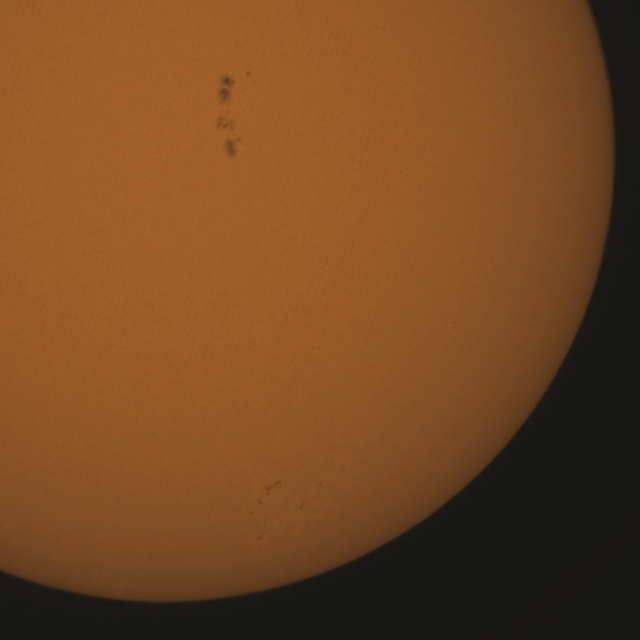sunspot: (215, 114, 242, 162), (216, 72, 238, 109), (258, 480, 282, 506), (255, 532, 265, 542), (298, 501, 306, 511), (245, 70, 252, 77), (248, 511, 254, 517)
